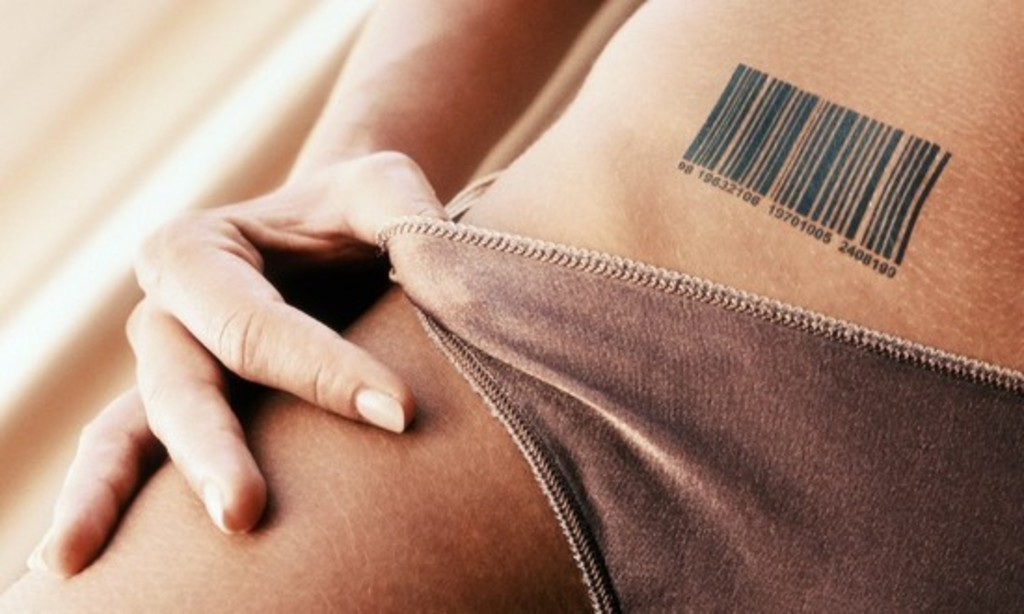Human_hand: (74, 166, 428, 536)
